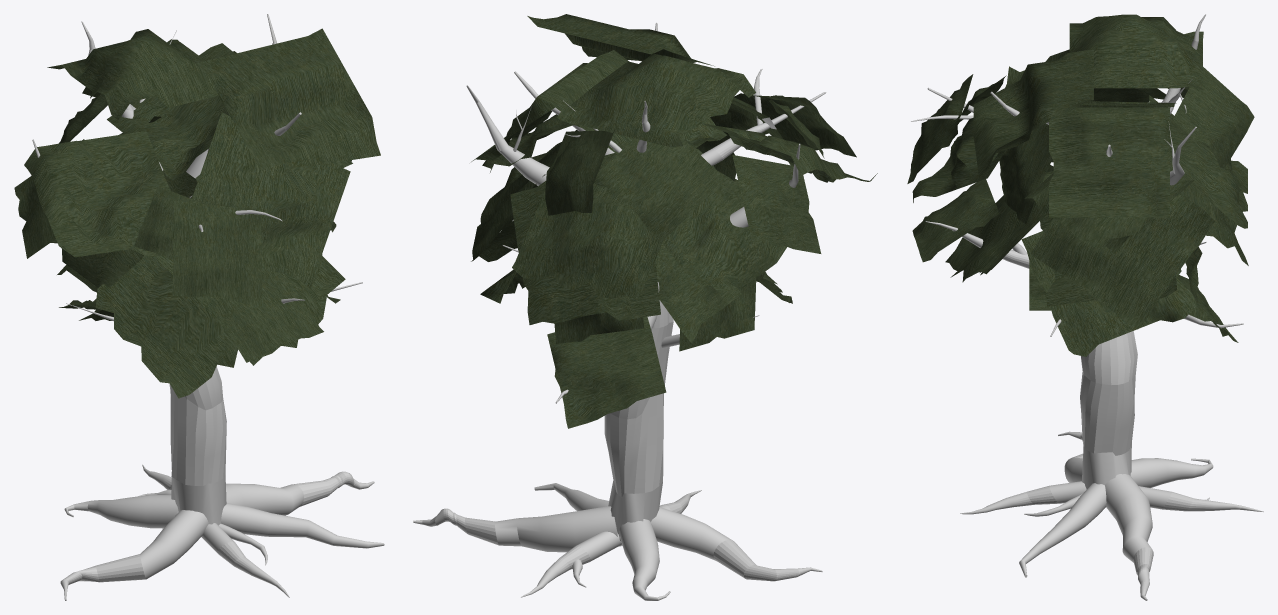
The model's file is lowScaledMaple.fbx.
The picture shows the model from 3 angles, left to right: view 1: azimuth 30°, elevation 25°; view 2: azimuth 150°, elevation 25°; view 3: azimuth 270°, elevation 25°; orthographic projection. The views are drawn at different scales.
Visible parts, largest first — view 1: Tree1_Shrunk; view 2: Tree1_Shrunk; view 3: Tree1_Shrunk.
Boxes of the visible parts, left/top/right/bottom form: Tree1_Shrunk: left=14, top=14, right=384, bottom=600; Tree1_Shrunk: left=413, top=14, right=877, bottom=600; Tree1_Shrunk: left=907, top=14, right=1263, bottom=600.
Bounding box in the file's own units: 0.175 × 0.222 × 0.1503.
